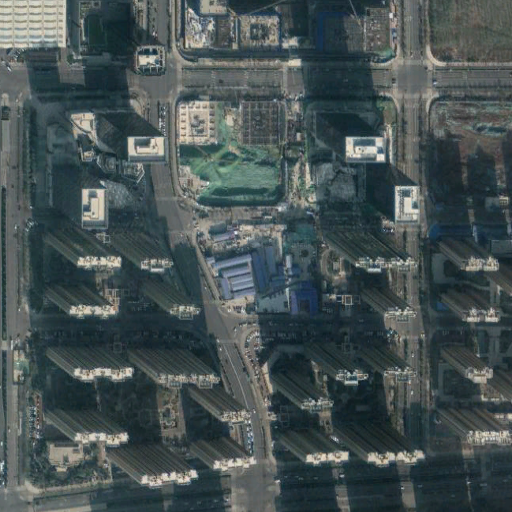cw: (175, 100, 289, 207)
